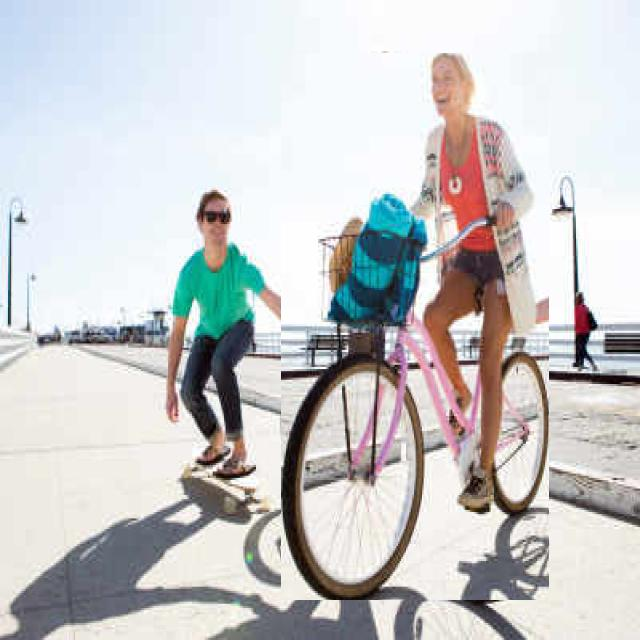bicycle: (281, 54, 549, 600)
